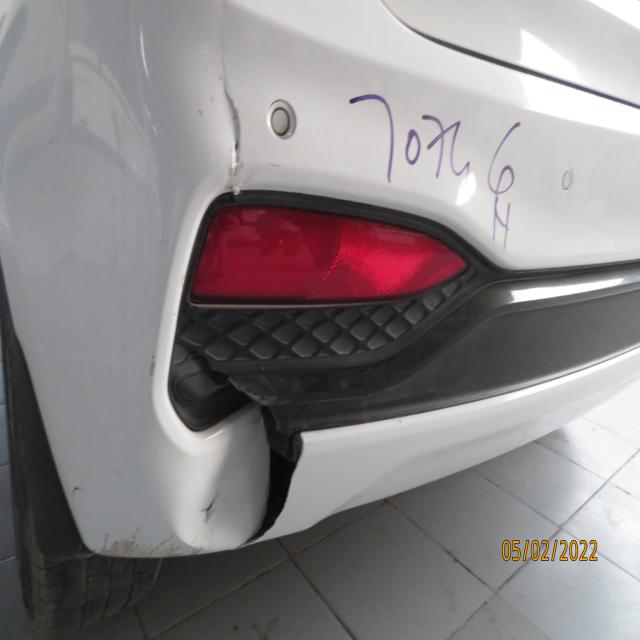damage: (160, 414, 326, 555), (191, 0, 259, 216), (167, 331, 287, 420)
